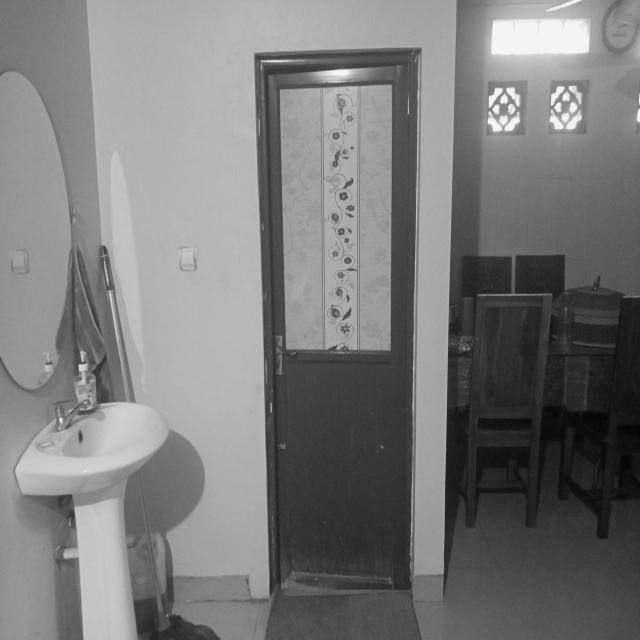door: (252, 48, 416, 591)
